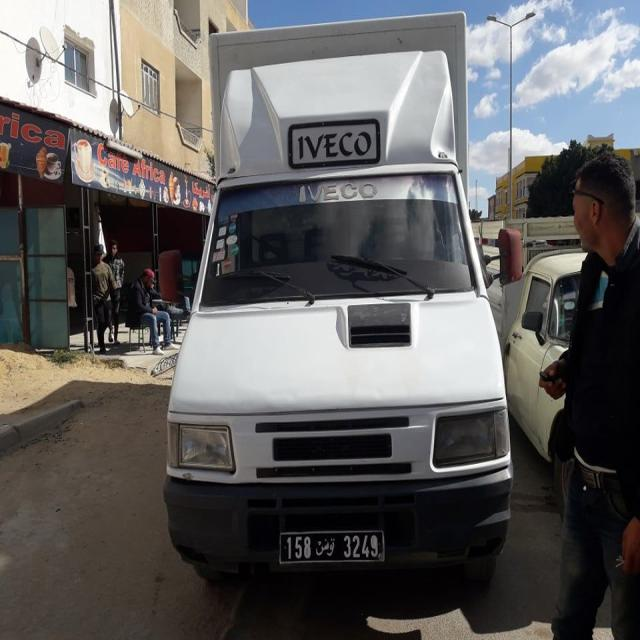LP: (278, 530, 384, 562)
